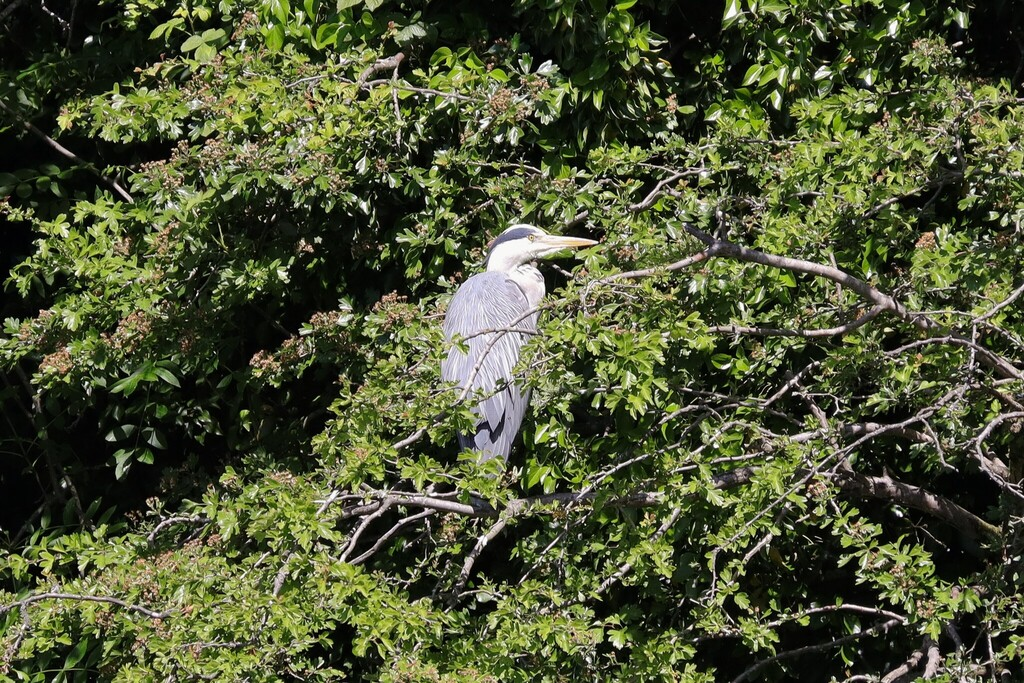heron: (439, 223, 600, 520)
